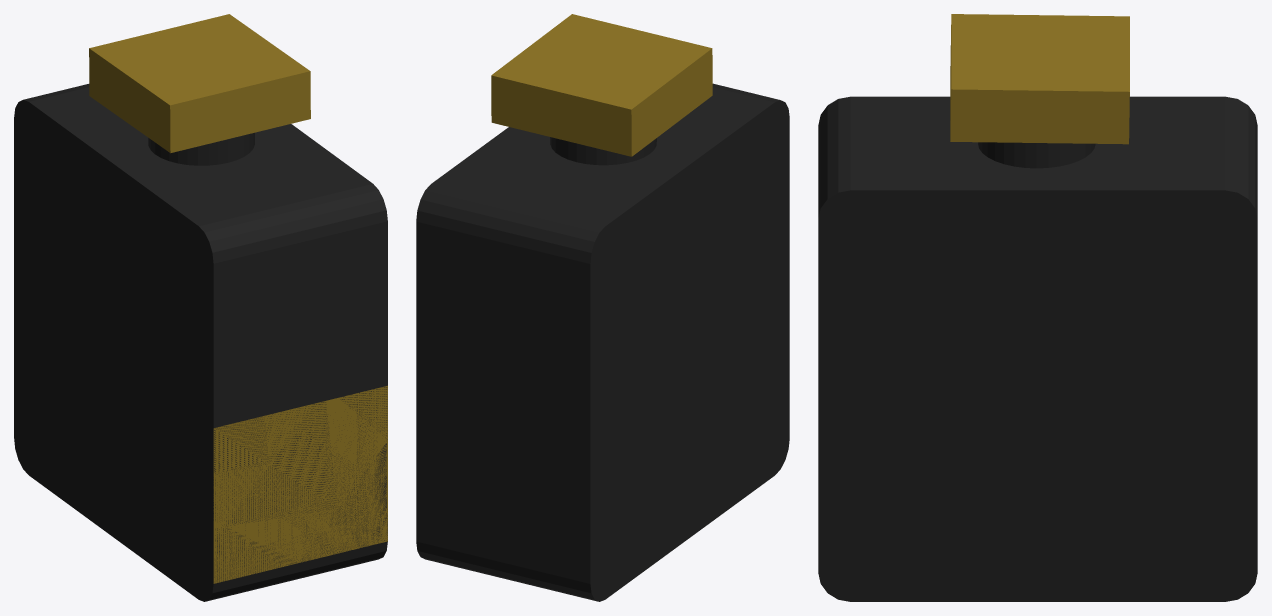
File: parfum.glb
The picture shows the model from 3 angles, left to right: view 1: azimuth 30°, elevation 25°; view 2: azimuth 150°, elevation 25°; view 3: azimuth 270°, elevation 25°; orthographic projection. The views are drawn at different scales.
Parts seen in each view (by area): view 1: Cylinder; view 2: Cylinder; view 3: Cylinder.
Part boxes in pixels (x1,y1,x2,y2): Cylinder: (14, 14, 387, 601); Cylinder: (416, 14, 789, 601); Cylinder: (818, 14, 1257, 601).
Bounding box in the file's own units: 2 × 5.01 × 3.96.
